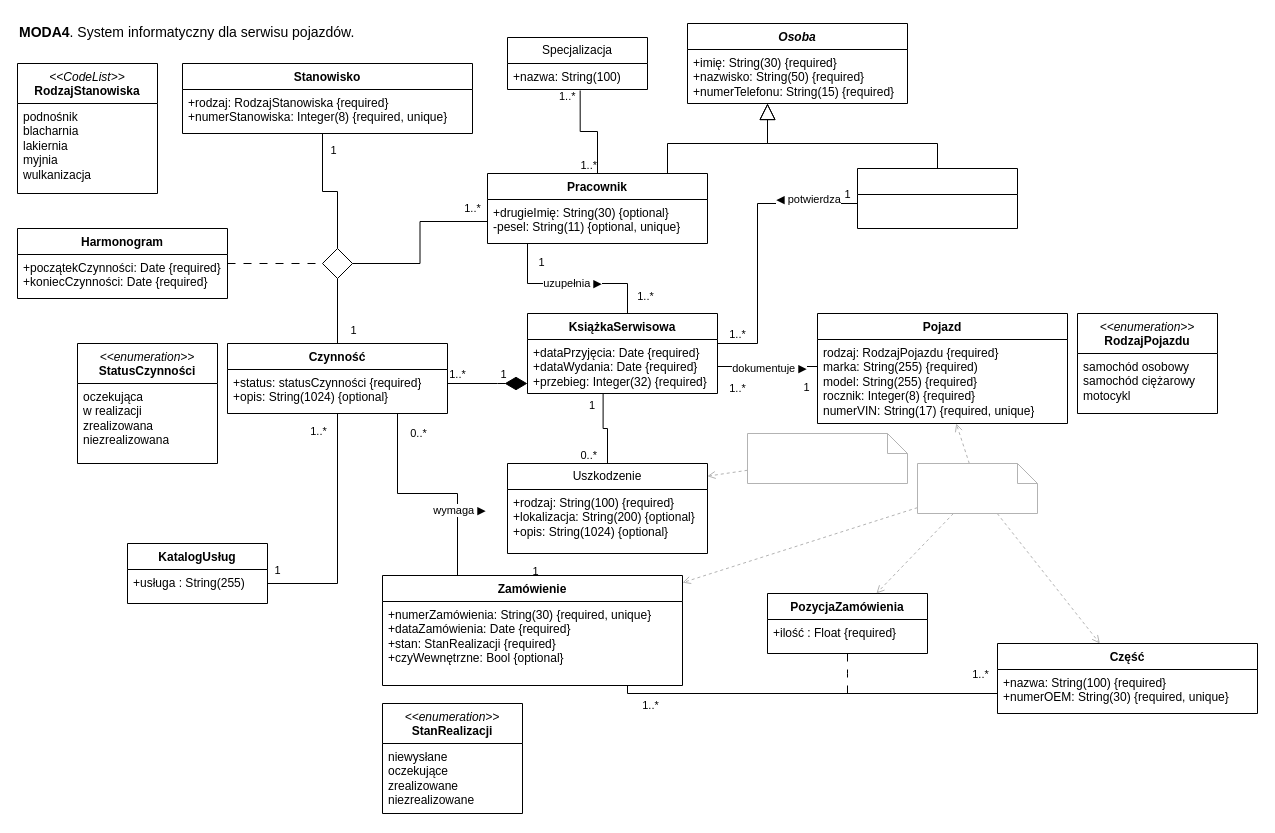
The diagram is 1275 pixels wide and 833 high, and some of its shapes have lost their labels. Each missing label, with the centre of its shape:
"Dane dla EDI" belongs at pixel 977 488.
"Klient" belongs at pixel 937 198.
"Lista uszkodzeń dotyczy zaobserwowanych uszkodzeń" belongs at pixel 827 458.
